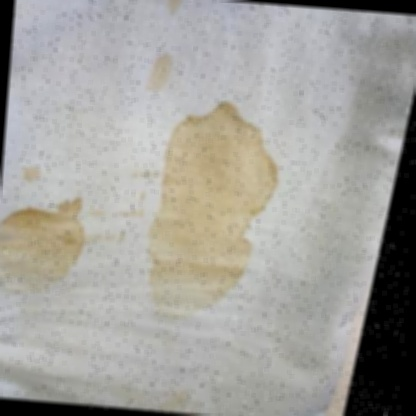coffee: (165, 121, 257, 285), (0, 213, 81, 289)
